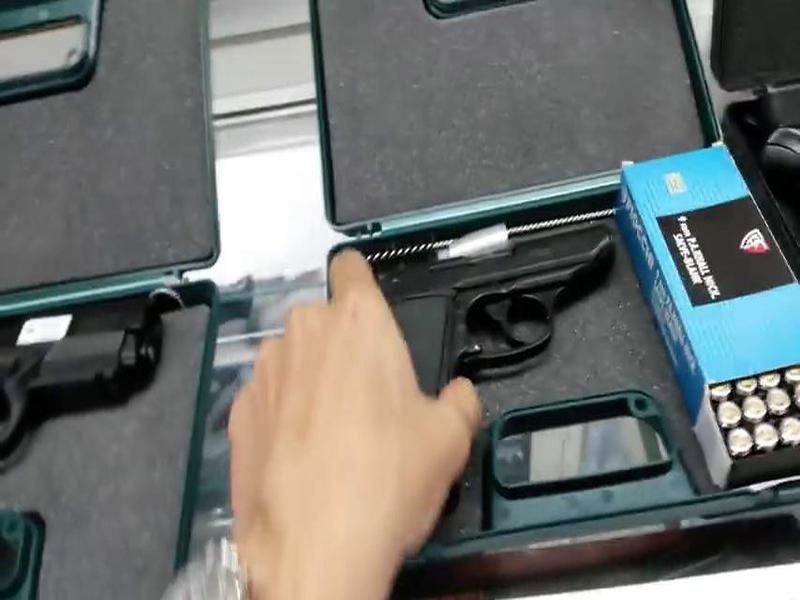Pistola: (342, 214, 653, 495)
